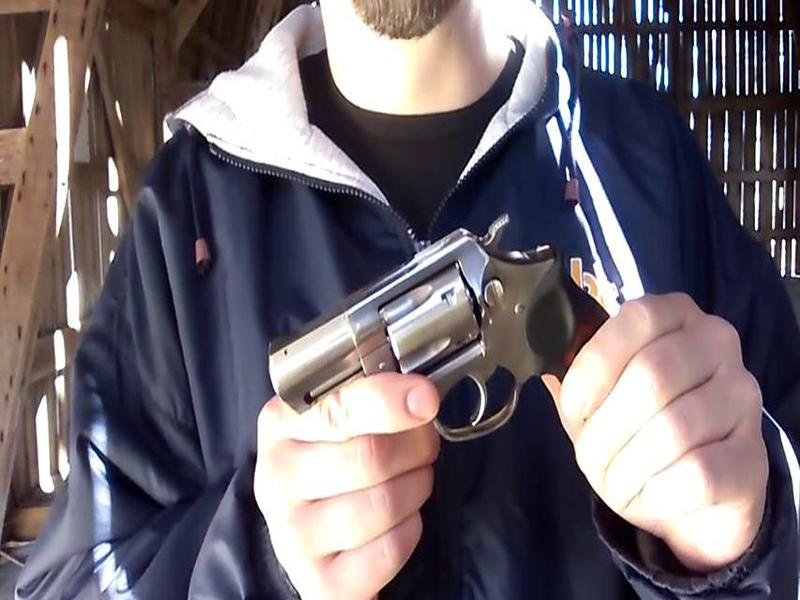Revolver: (264, 210, 587, 454)
